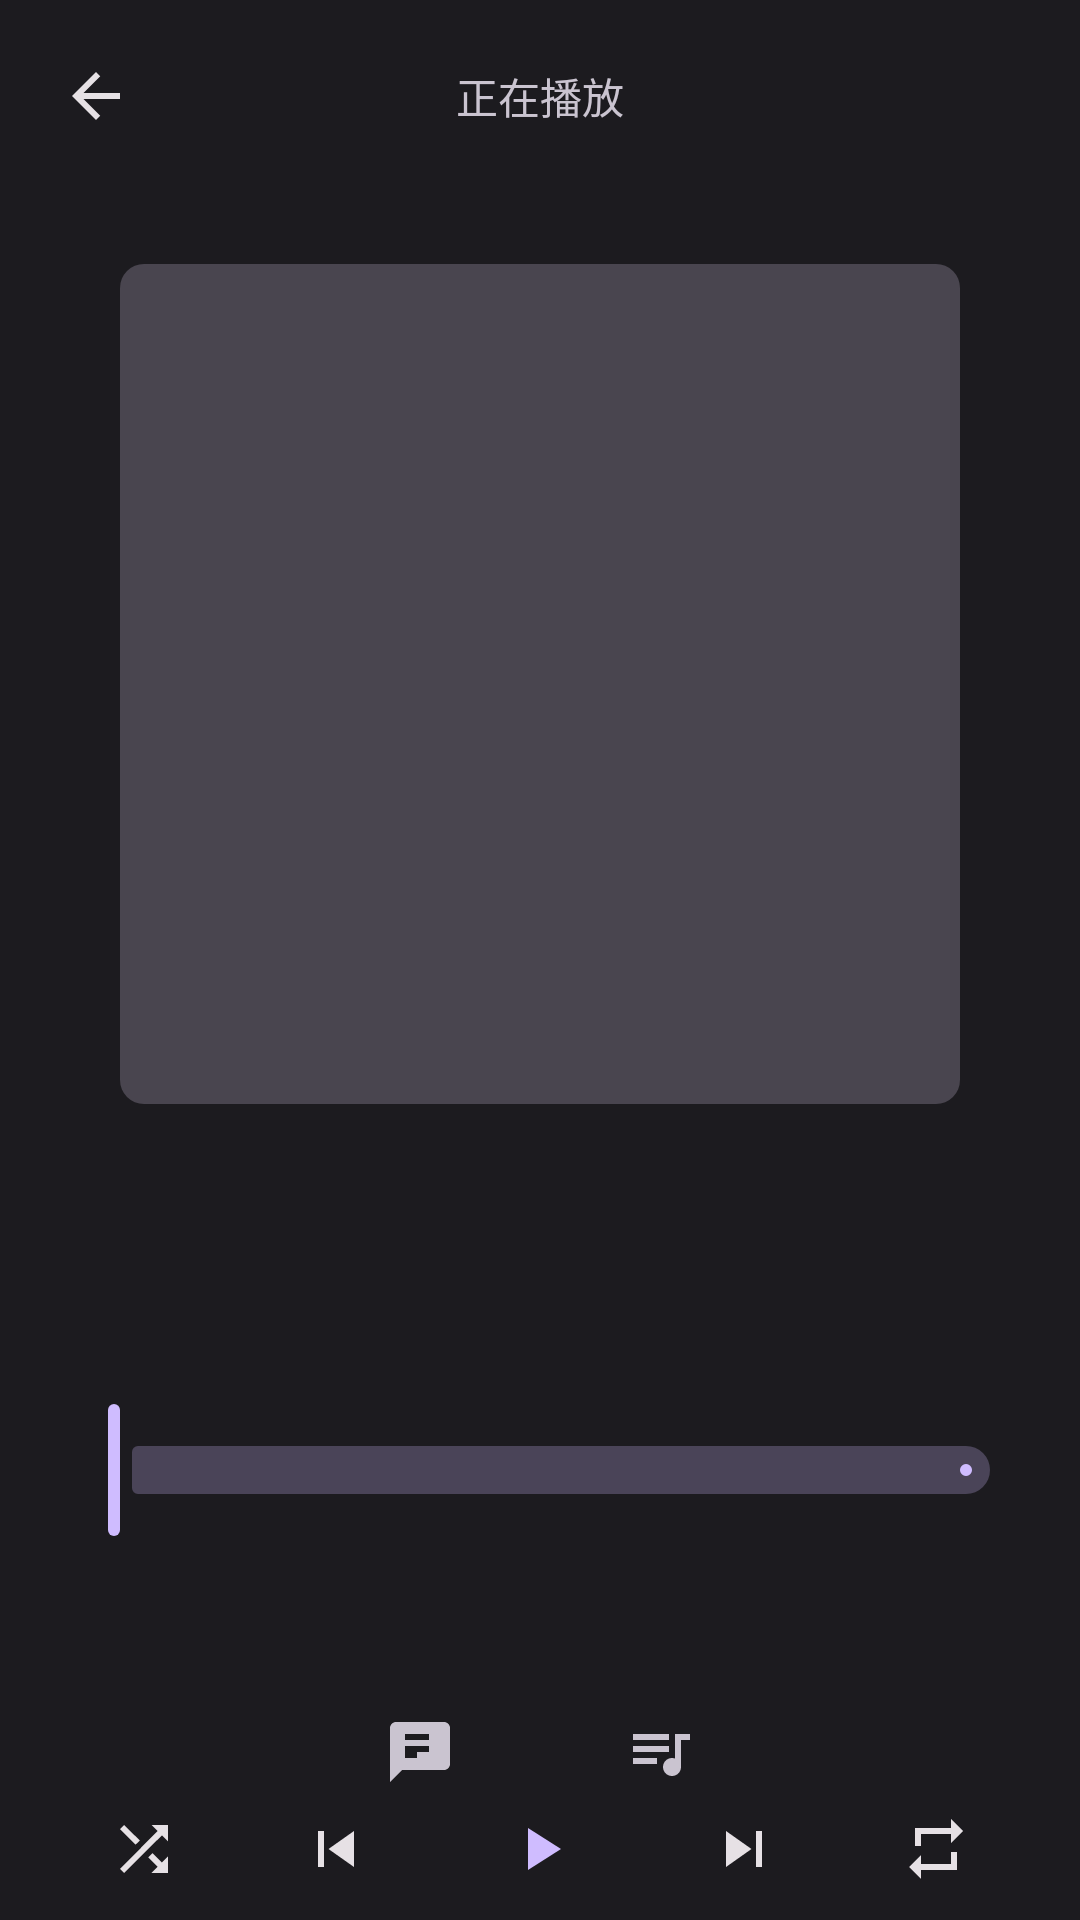

Where to tap for icons on this 1080 × 1920 app screen, as point (x, y):
back: point (96, 96)
queue: point (661, 1755)
skip next: point (744, 1849)
skip previous: point (336, 1849)
播放: point (544, 1849)
歌词: point (420, 1752)
随机播放: point (144, 1849)
